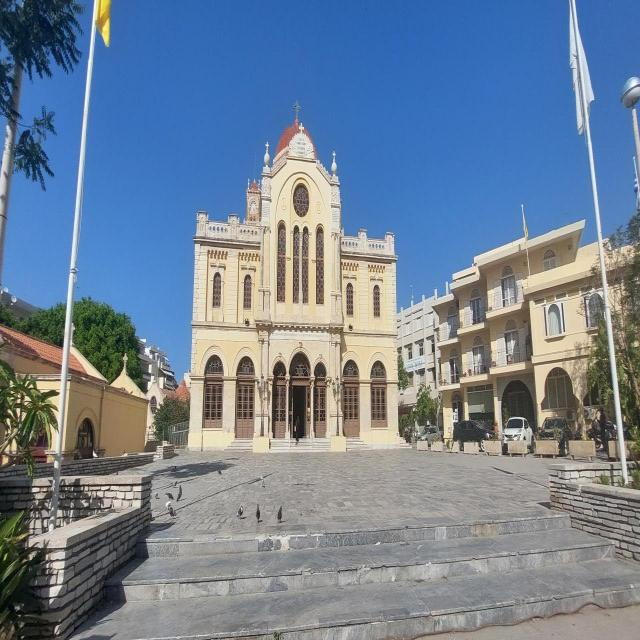Agios Minas: (184, 98, 406, 451)
